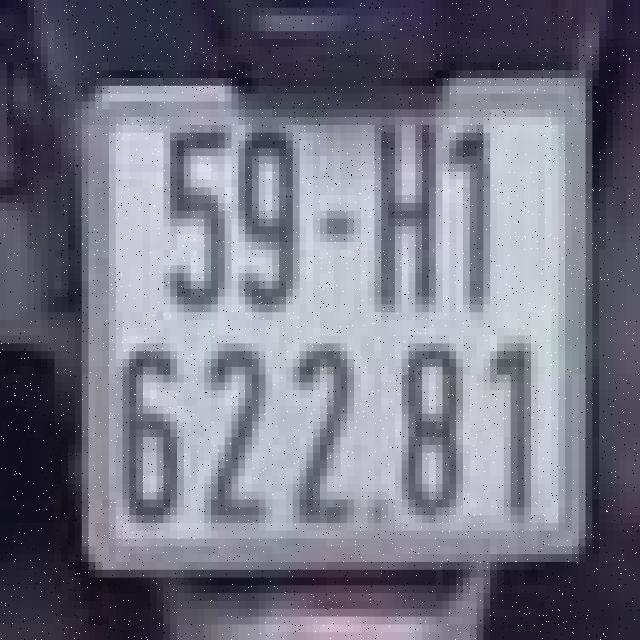1: (449, 113, 504, 324), (490, 328, 545, 531)
2: (194, 336, 283, 530), (293, 340, 361, 542)
5: (156, 113, 232, 316)
6: (112, 339, 188, 527)
8: (395, 340, 470, 534)
9: (232, 121, 313, 324)
H: (371, 109, 439, 320)
